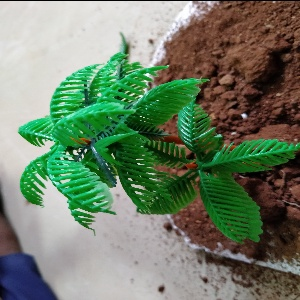plant: (5, 49, 292, 241)
